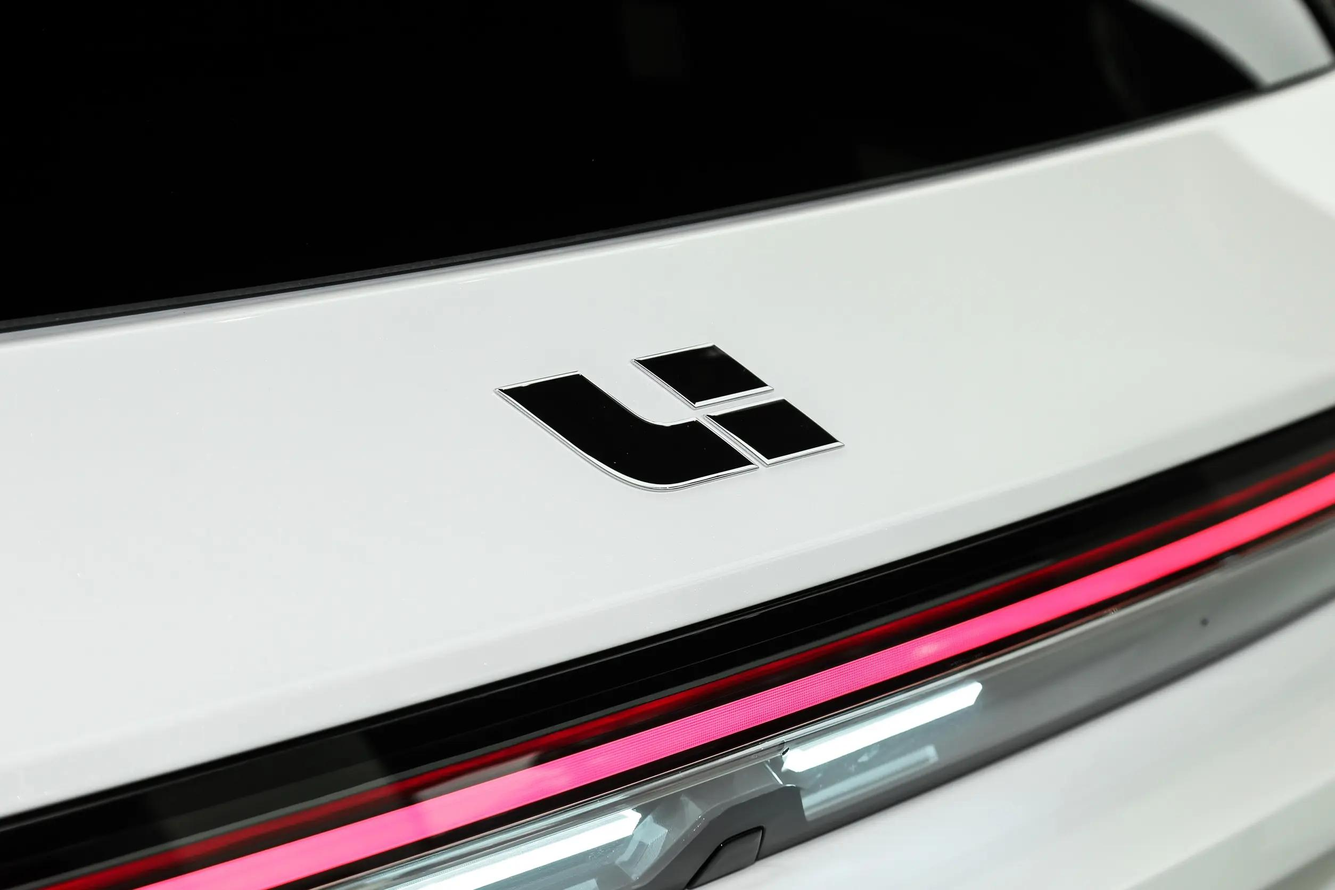Li Auto: (493, 342, 846, 492)
